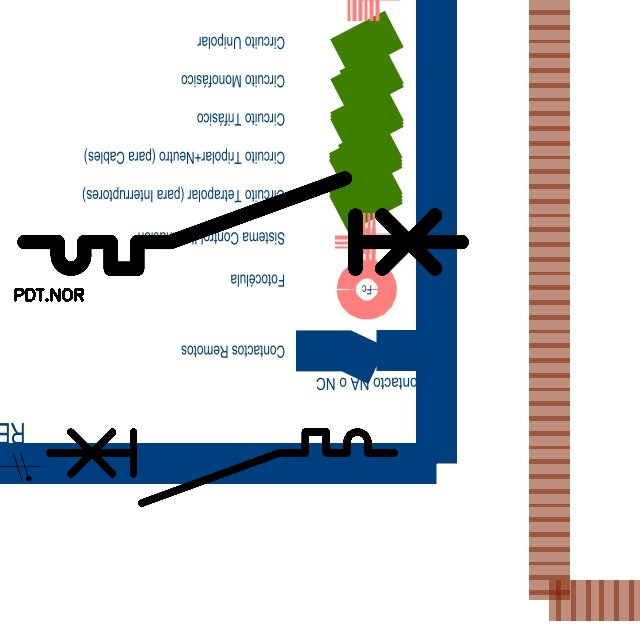interruptor_termomagnetico: (13, 167, 473, 280), (41, 423, 403, 511)
